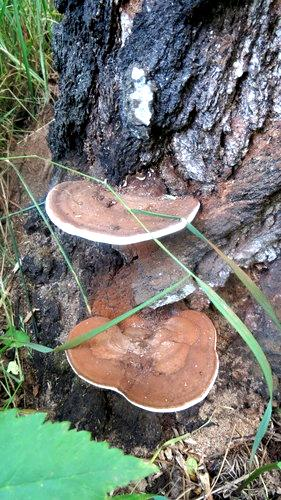Ganoderma - Fruit Body: (64, 310, 223, 411), (45, 176, 202, 250)
